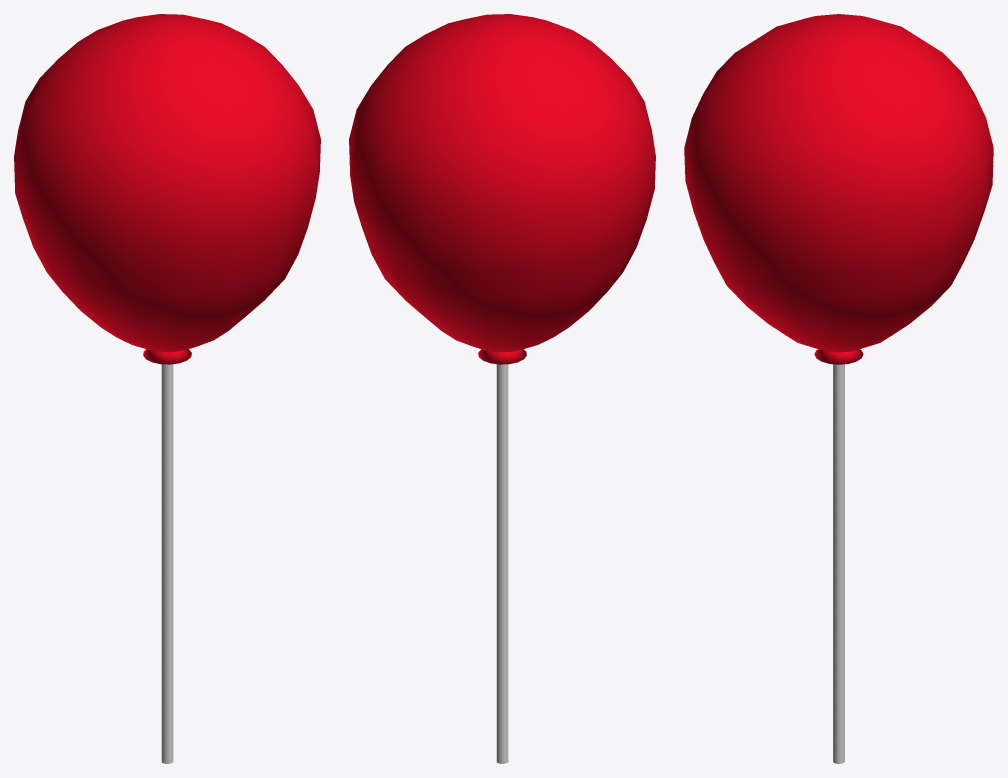
File: balloon.fbx
3 renders of one model, left to right at view 1: azimuth 30°, elevation 25°; view 2: azimuth 150°, elevation 25°; view 3: azimuth 270°, elevation 25°, orthographic.
Parts seen in each view (by area): view 1: pSphere2; view 2: pSphere2; view 3: pSphere2.
Part boxes in pixels (x1,y1,x2,y2): pSphere2: [14, 14, 320, 763]; pSphere2: [349, 14, 655, 763]; pSphere2: [684, 14, 993, 763].
Bounding box in the file's own units: 1.94 × 5.08 × 1.94.
